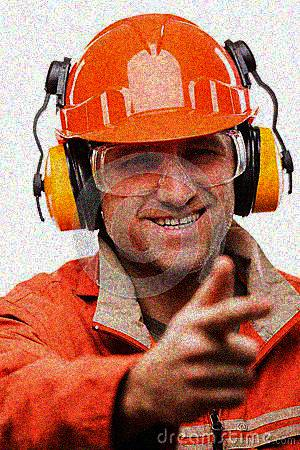helmet: (44, 11, 266, 278)
